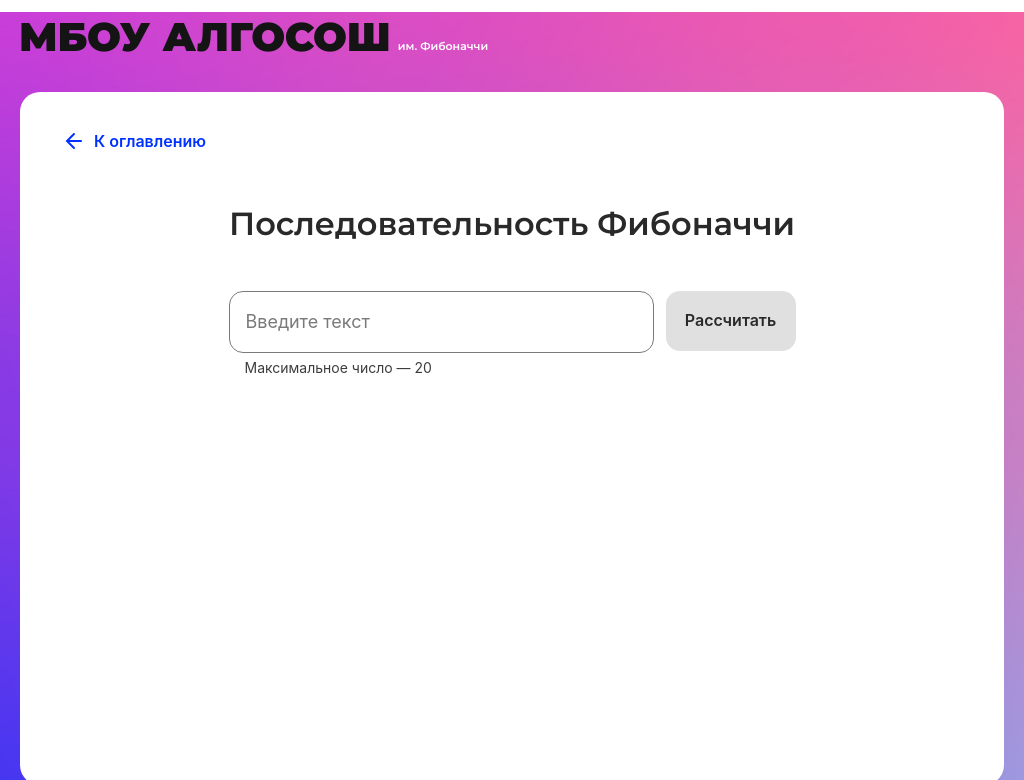
it: fibonacci page test › checks whether button disabled or not when input is void
This screenshot has width=1024, height=780.
Check: the button "Рассчитать" is disabled, box [666,291,796,351]
Type "3" into the number field with placeholder "Введите текст". click: (442, 322)
box: [229,291,654,353]
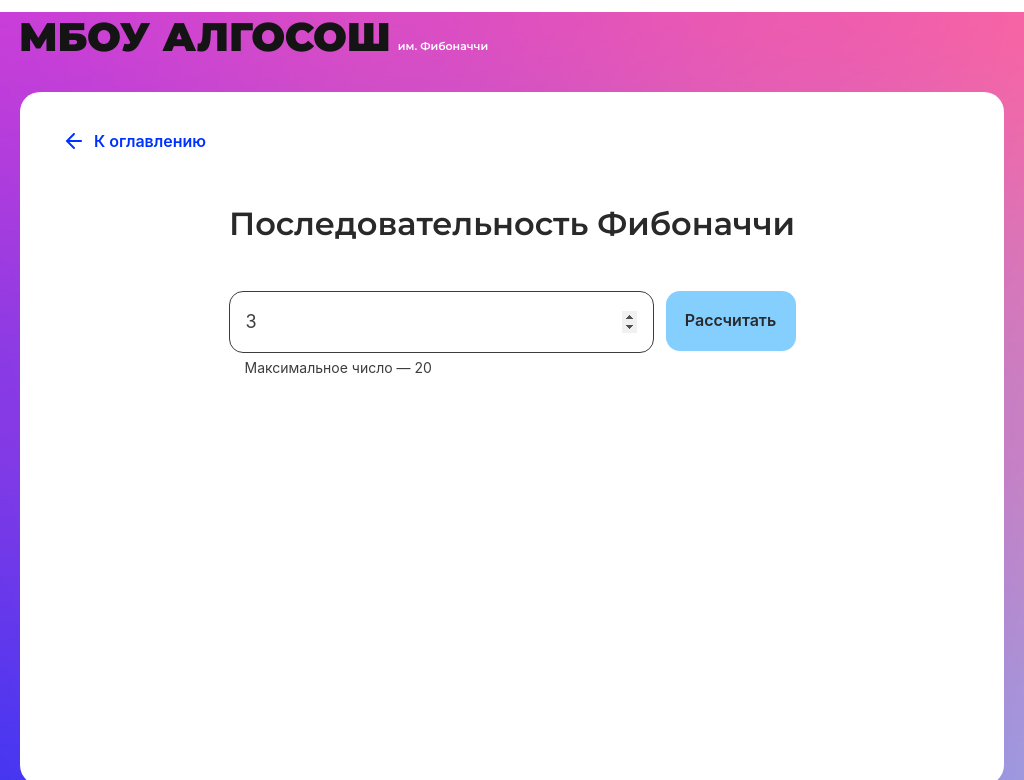
Check: the text "Рассчитать" is enabled
Clear the number field. click: (442, 322)
box: [229,291,654,353]
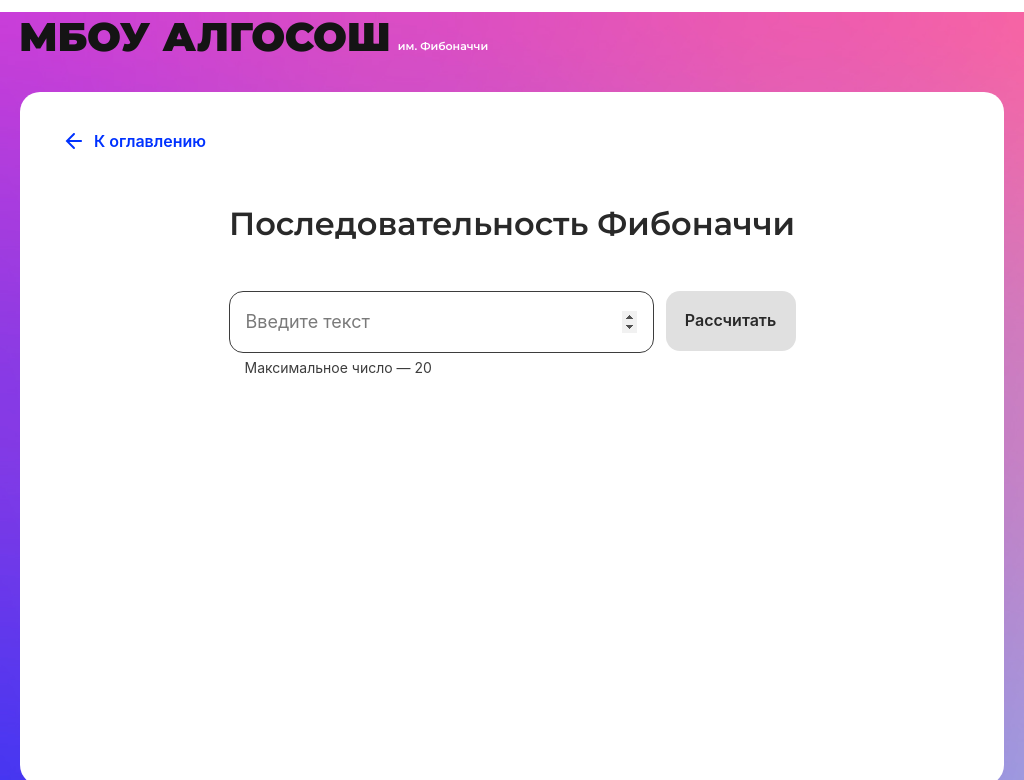
Check: the button "Рассчитать" is disabled, box [666,291,796,351]
